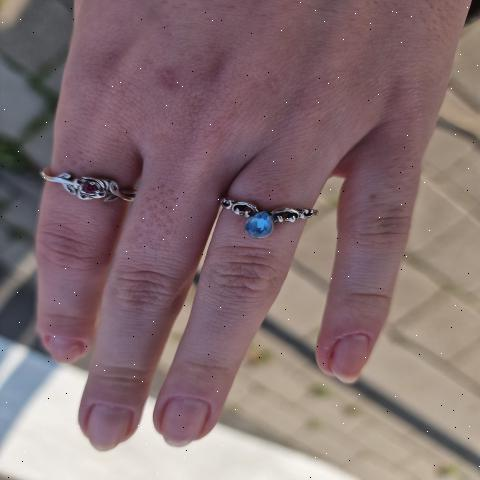Hands: (17, 17, 448, 474)
